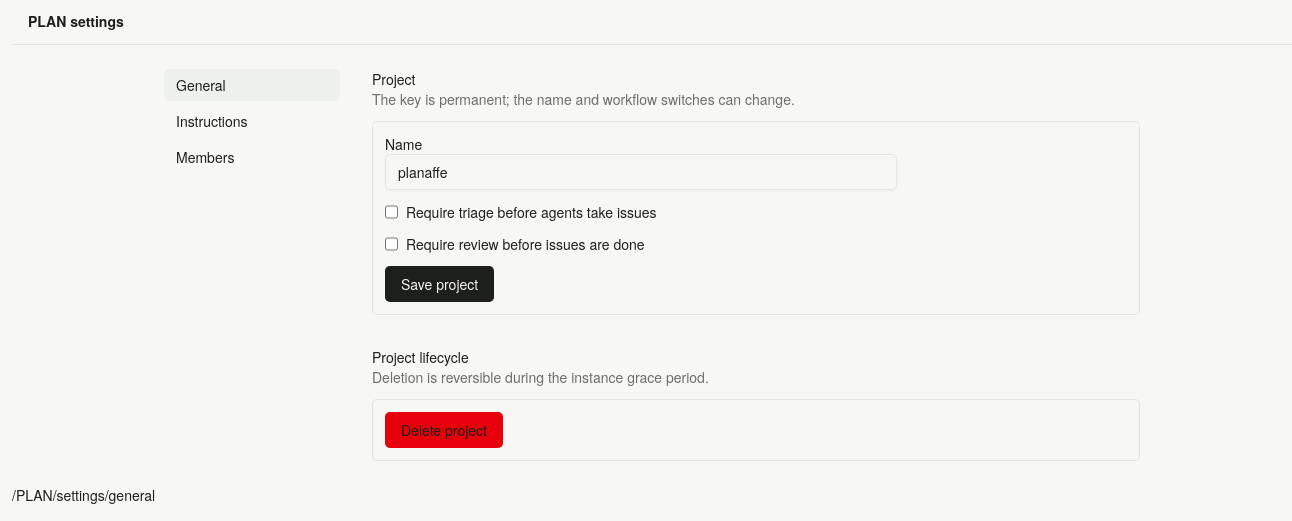
Test: moves between areas without growing the address
Click the link "Members" at (205, 157), box [176, 147, 234, 167]
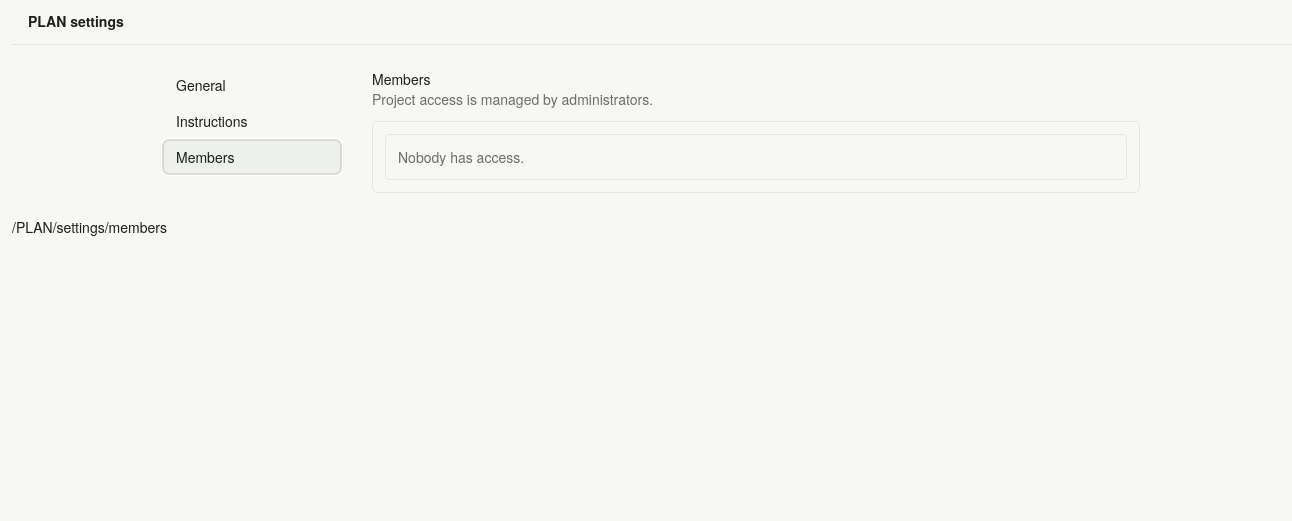
Check: the text with test id "at" reads "/PLAN/settings/members", box [12, 217, 167, 237]
Check: the heading "Members" is shown, box [372, 69, 430, 89]
